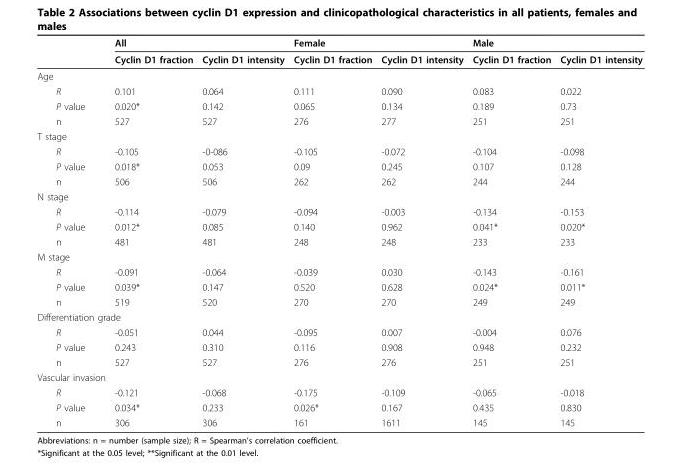table: (36, 36, 641, 427)
table column: (196, 36, 288, 427), (375, 36, 467, 427), (109, 36, 196, 427), (288, 36, 375, 427), (467, 36, 554, 427), (554, 36, 641, 427), (36, 36, 109, 427)
table column header: (36, 36, 641, 67)
table projected row header: (36, 67, 641, 83), (36, 248, 641, 264), (36, 128, 641, 143), (36, 188, 641, 203), (36, 309, 641, 324), (36, 369, 641, 384)
table row: (36, 50, 641, 67), (36, 67, 641, 83), (36, 248, 641, 264), (36, 83, 641, 98), (36, 98, 641, 113), (36, 113, 641, 128), (36, 128, 641, 143), (36, 143, 641, 158), (36, 158, 641, 173), (36, 173, 641, 188), (36, 188, 641, 203), (36, 203, 641, 218), (36, 218, 641, 233), (36, 233, 641, 248), (36, 264, 641, 279), (36, 279, 641, 294), (36, 294, 641, 309), (36, 309, 641, 324), (36, 324, 641, 339), (36, 339, 641, 354), (36, 354, 641, 369), (36, 369, 641, 384), (36, 384, 641, 399), (36, 399, 641, 414), (36, 36, 641, 50), (36, 414, 641, 427)
table spanning cell: (109, 36, 288, 50), (288, 36, 467, 50), (467, 36, 641, 50)
